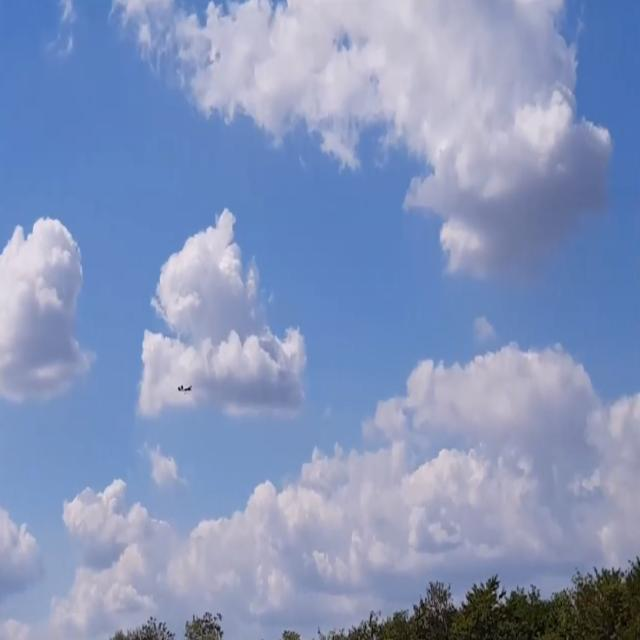iha: (178, 385, 194, 390)
